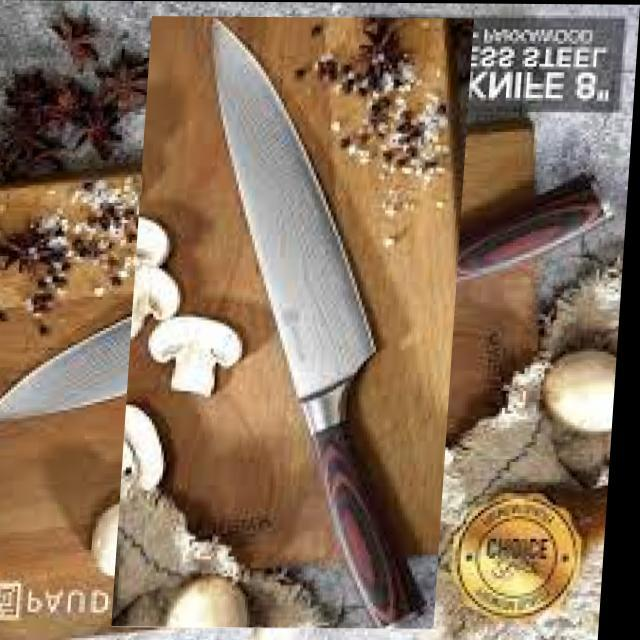knife: (0, 169, 617, 423), (211, 17, 430, 629)
